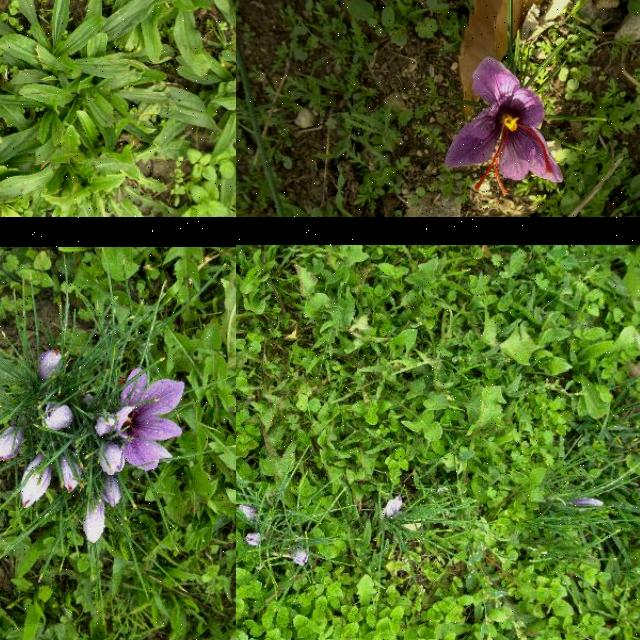flower: (444, 58, 564, 196), (20, 456, 52, 510), (82, 497, 106, 545), (38, 402, 74, 432), (58, 452, 82, 494), (38, 348, 62, 384), (0, 426, 23, 461), (98, 476, 122, 508), (382, 496, 403, 518), (240, 504, 256, 522), (294, 549, 310, 567), (577, 499, 603, 507), (247, 534, 263, 546)
overlap: (96, 366, 186, 476)
